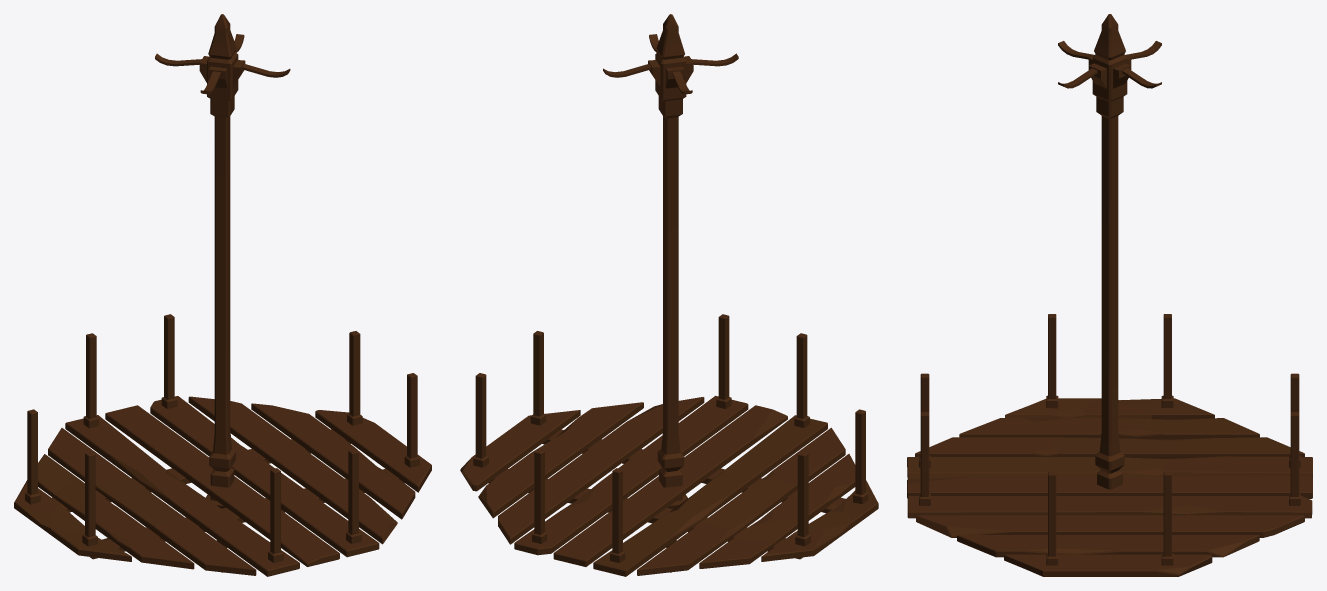
The model's file is Platform-M02C.fbx.
The picture shows the model from 3 angles, left to right: view 1: azimuth 30°, elevation 25°; view 2: azimuth 150°, elevation 25°; view 3: azimuth 270°, elevation 25°; orthographic projection.
Parts seen in each view (by area): view 1: Cube.002; view 2: Cube.002; view 3: Cube.002.
Part boxes in pixels (<box>): Cube.002: <box>14,14,431,576</box>; Cube.002: <box>460,14,878,576</box>; Cube.002: <box>907,14,1312,576</box>.
Size of the model in its own units: 241 by 364 by 240.
